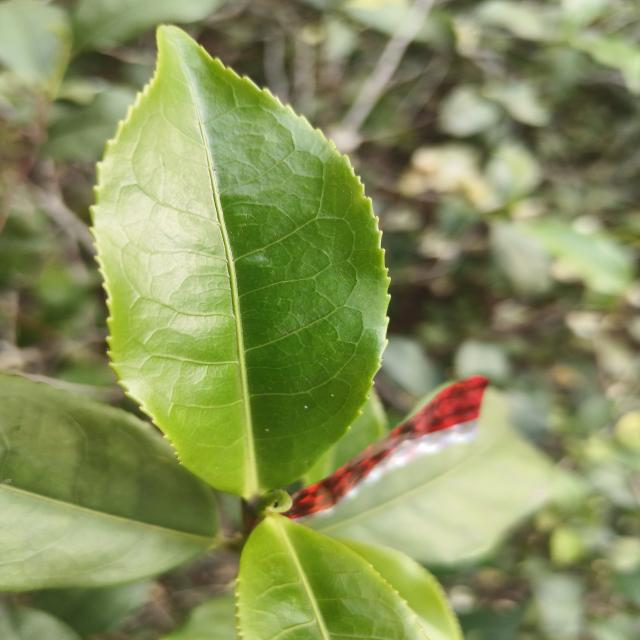Leaf: (93, 27, 388, 499), (0, 373, 219, 591), (304, 388, 552, 566), (237, 514, 427, 640), (520, 218, 633, 294), (0, 0, 71, 98)
